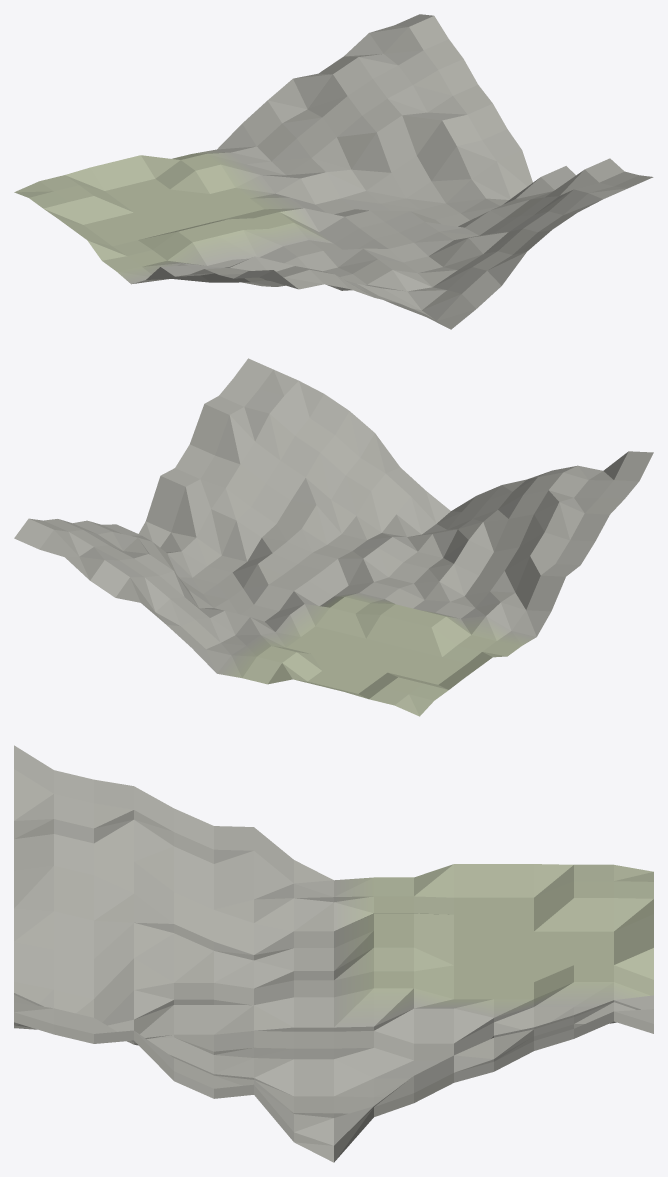
3 views of the same model, one above another, from view 1: azimuth 30°, elevation 25°; view 2: azimuth 150°, elevation 25°; view 3: azimuth 270°, elevation 25° (orthographic). The views are drawn at different scales.
Size of the model in its own units: 32 by 8.3 by 32.
